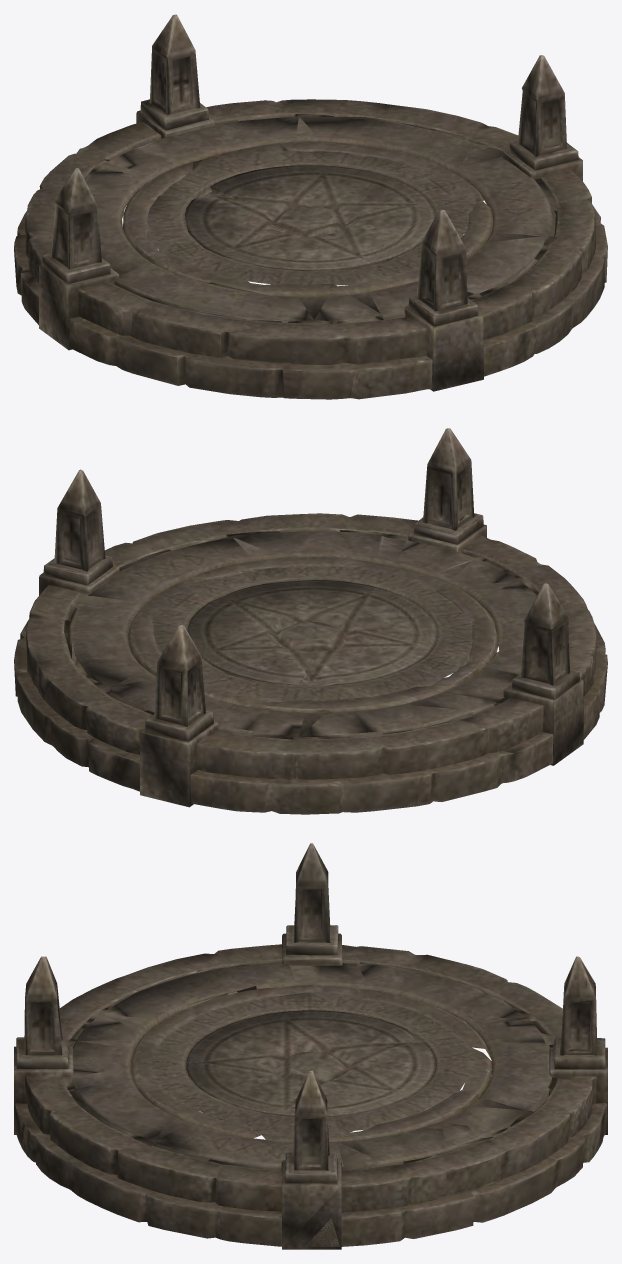
The model's file is p_waypoint.glb.
The picture shows the model from 3 angles, top to bottom: view 1: azimuth 30°, elevation 25°; view 2: azimuth 150°, elevation 25°; view 3: azimuth 270°, elevation 25°; orthographic projection.
Visible parts, largest first — view 1: p_waypoint; view 2: p_waypoint; view 3: p_waypoint.
Part boxes in pixels (box(x1,y1,x2,y2)): p_waypoint: box(14, 14, 607, 399); p_waypoint: box(14, 428, 607, 814); p_waypoint: box(14, 843, 607, 1249).
Bounding box in the file's own units: 2.8 × 0.8638 × 2.8.
1 material, 1 textured.
